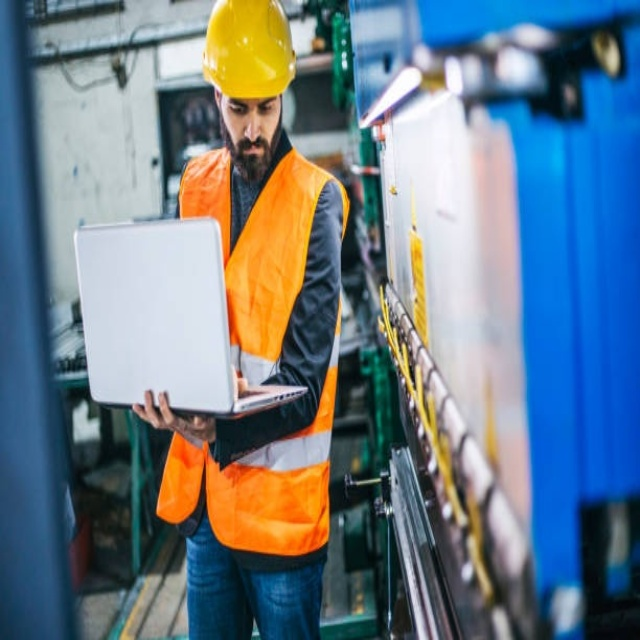Sin_gafas: (226, 94, 278, 129)
Sin_guantes: (132, 388, 211, 449)
Sin_mascara: (238, 136, 267, 168)
